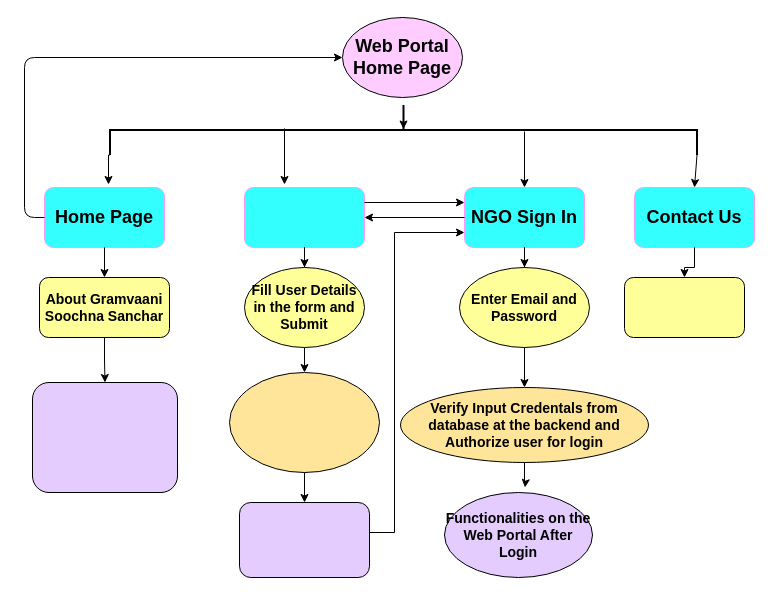
The diagram is 772 pixels wide and 595 high, and some of its shapes have lost their labels. Each missing label, with the box of its shape:
All the details of the new user shown and option to Sign In: (238, 502, 370, 578)
Brief Description of all the functionalities after Login at the Web Portal: (32, 382, 178, 492)
Data gets saved in the database at the back end: (228, 372, 380, 472)
Link to GramVaani Official Website: (624, 276, 744, 338)
NGO Sign Up: (244, 186, 364, 248)
